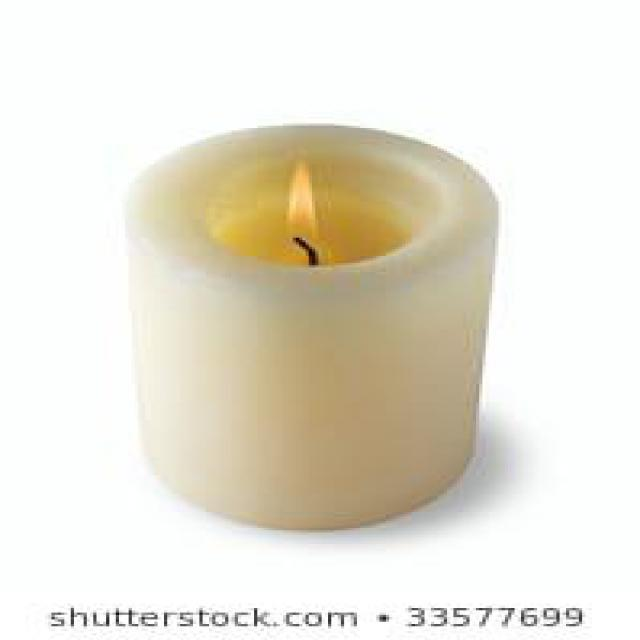Fire: (286, 158, 322, 250)
